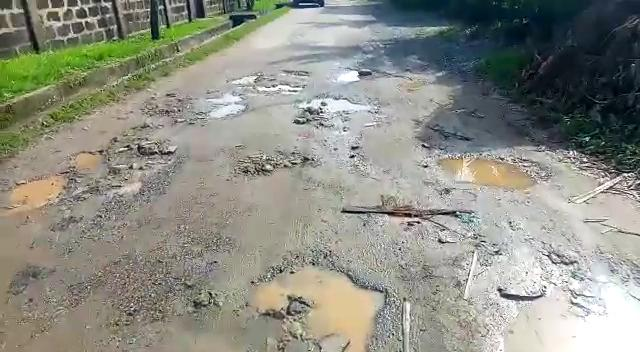pothole: (246, 261, 391, 352), (499, 276, 640, 352), (440, 148, 553, 187), (73, 135, 176, 174), (0, 169, 73, 213), (289, 95, 378, 124), (198, 94, 249, 118), (335, 66, 360, 83), (255, 84, 307, 92), (226, 74, 258, 85), (279, 68, 312, 77)
